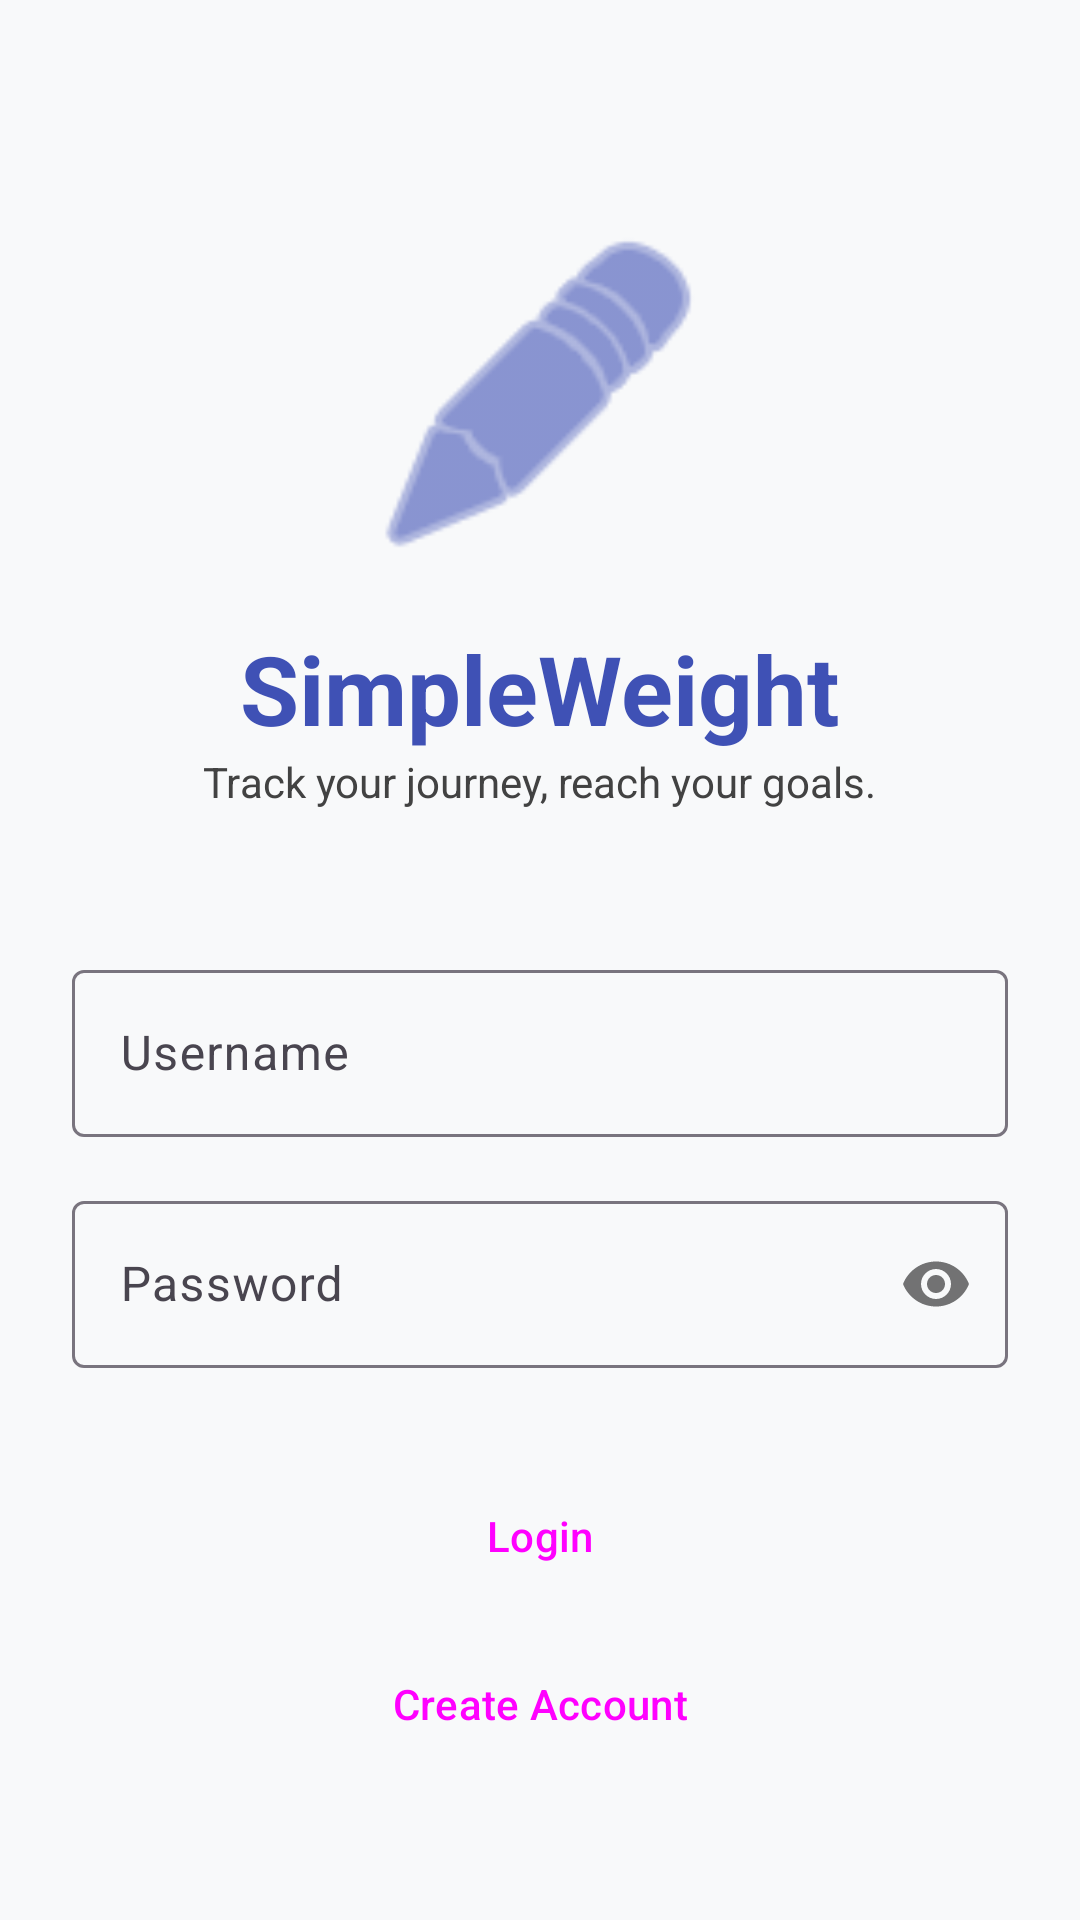

Screen size 1080 × 1920. Icon name, then its box in pixels as bbox(x1, y1, x2, y2):
edit: bbox(386, 241, 691, 546)
